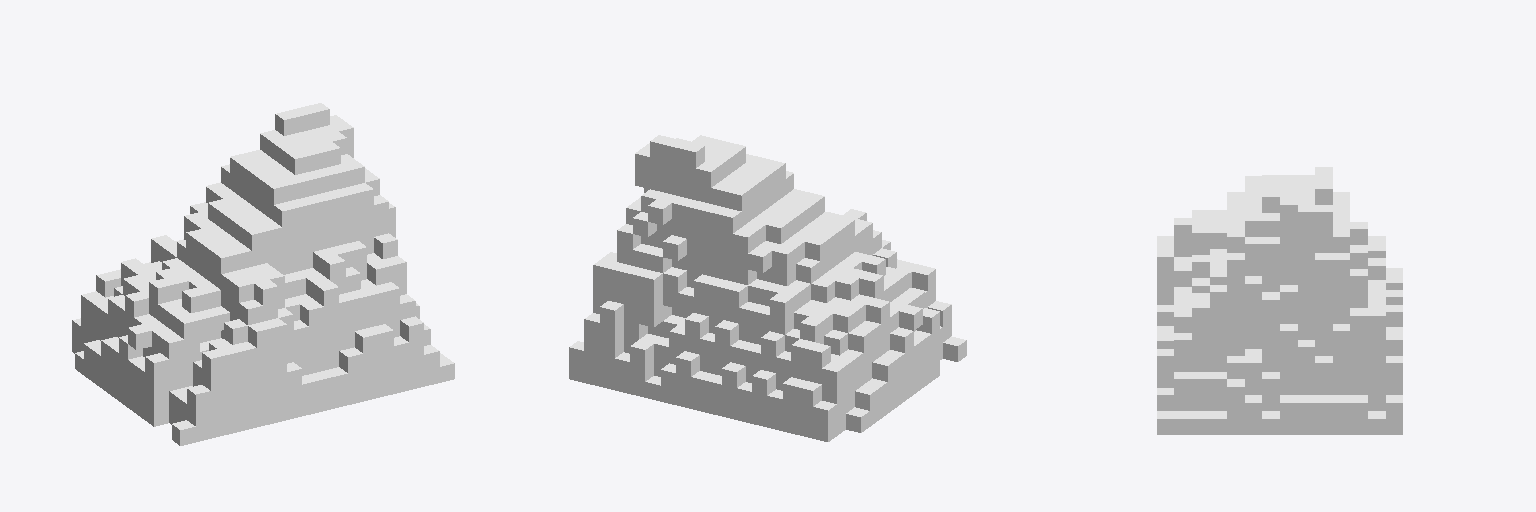
The model's file is MelochevkaLes-6.obj.
The picture shows the model from 3 angles: view 1: azimuth 30°, elevation 25°; view 2: azimuth 150°, elevation 25°; view 3: azimuth 270°, elevation 25°; orthographic projection.
Visible parts, largest first — view 1: object 1; view 2: object 1; view 3: object 1.
Part boxes in pixels (left/top/right/bottom): object 1: left=72, top=103, right=454, bottom=445; object 1: left=569, top=135, right=966, bottom=441; object 1: left=1157, top=167, right=1402, bottom=434.
Bounding box in the file's own units: 1.8 × 1.4 × 1.4.